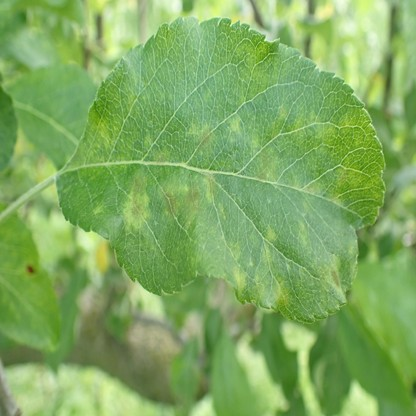scab: (77, 87, 382, 300)
